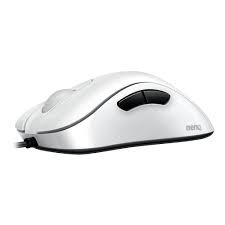mouse: (4, 51, 221, 160)
